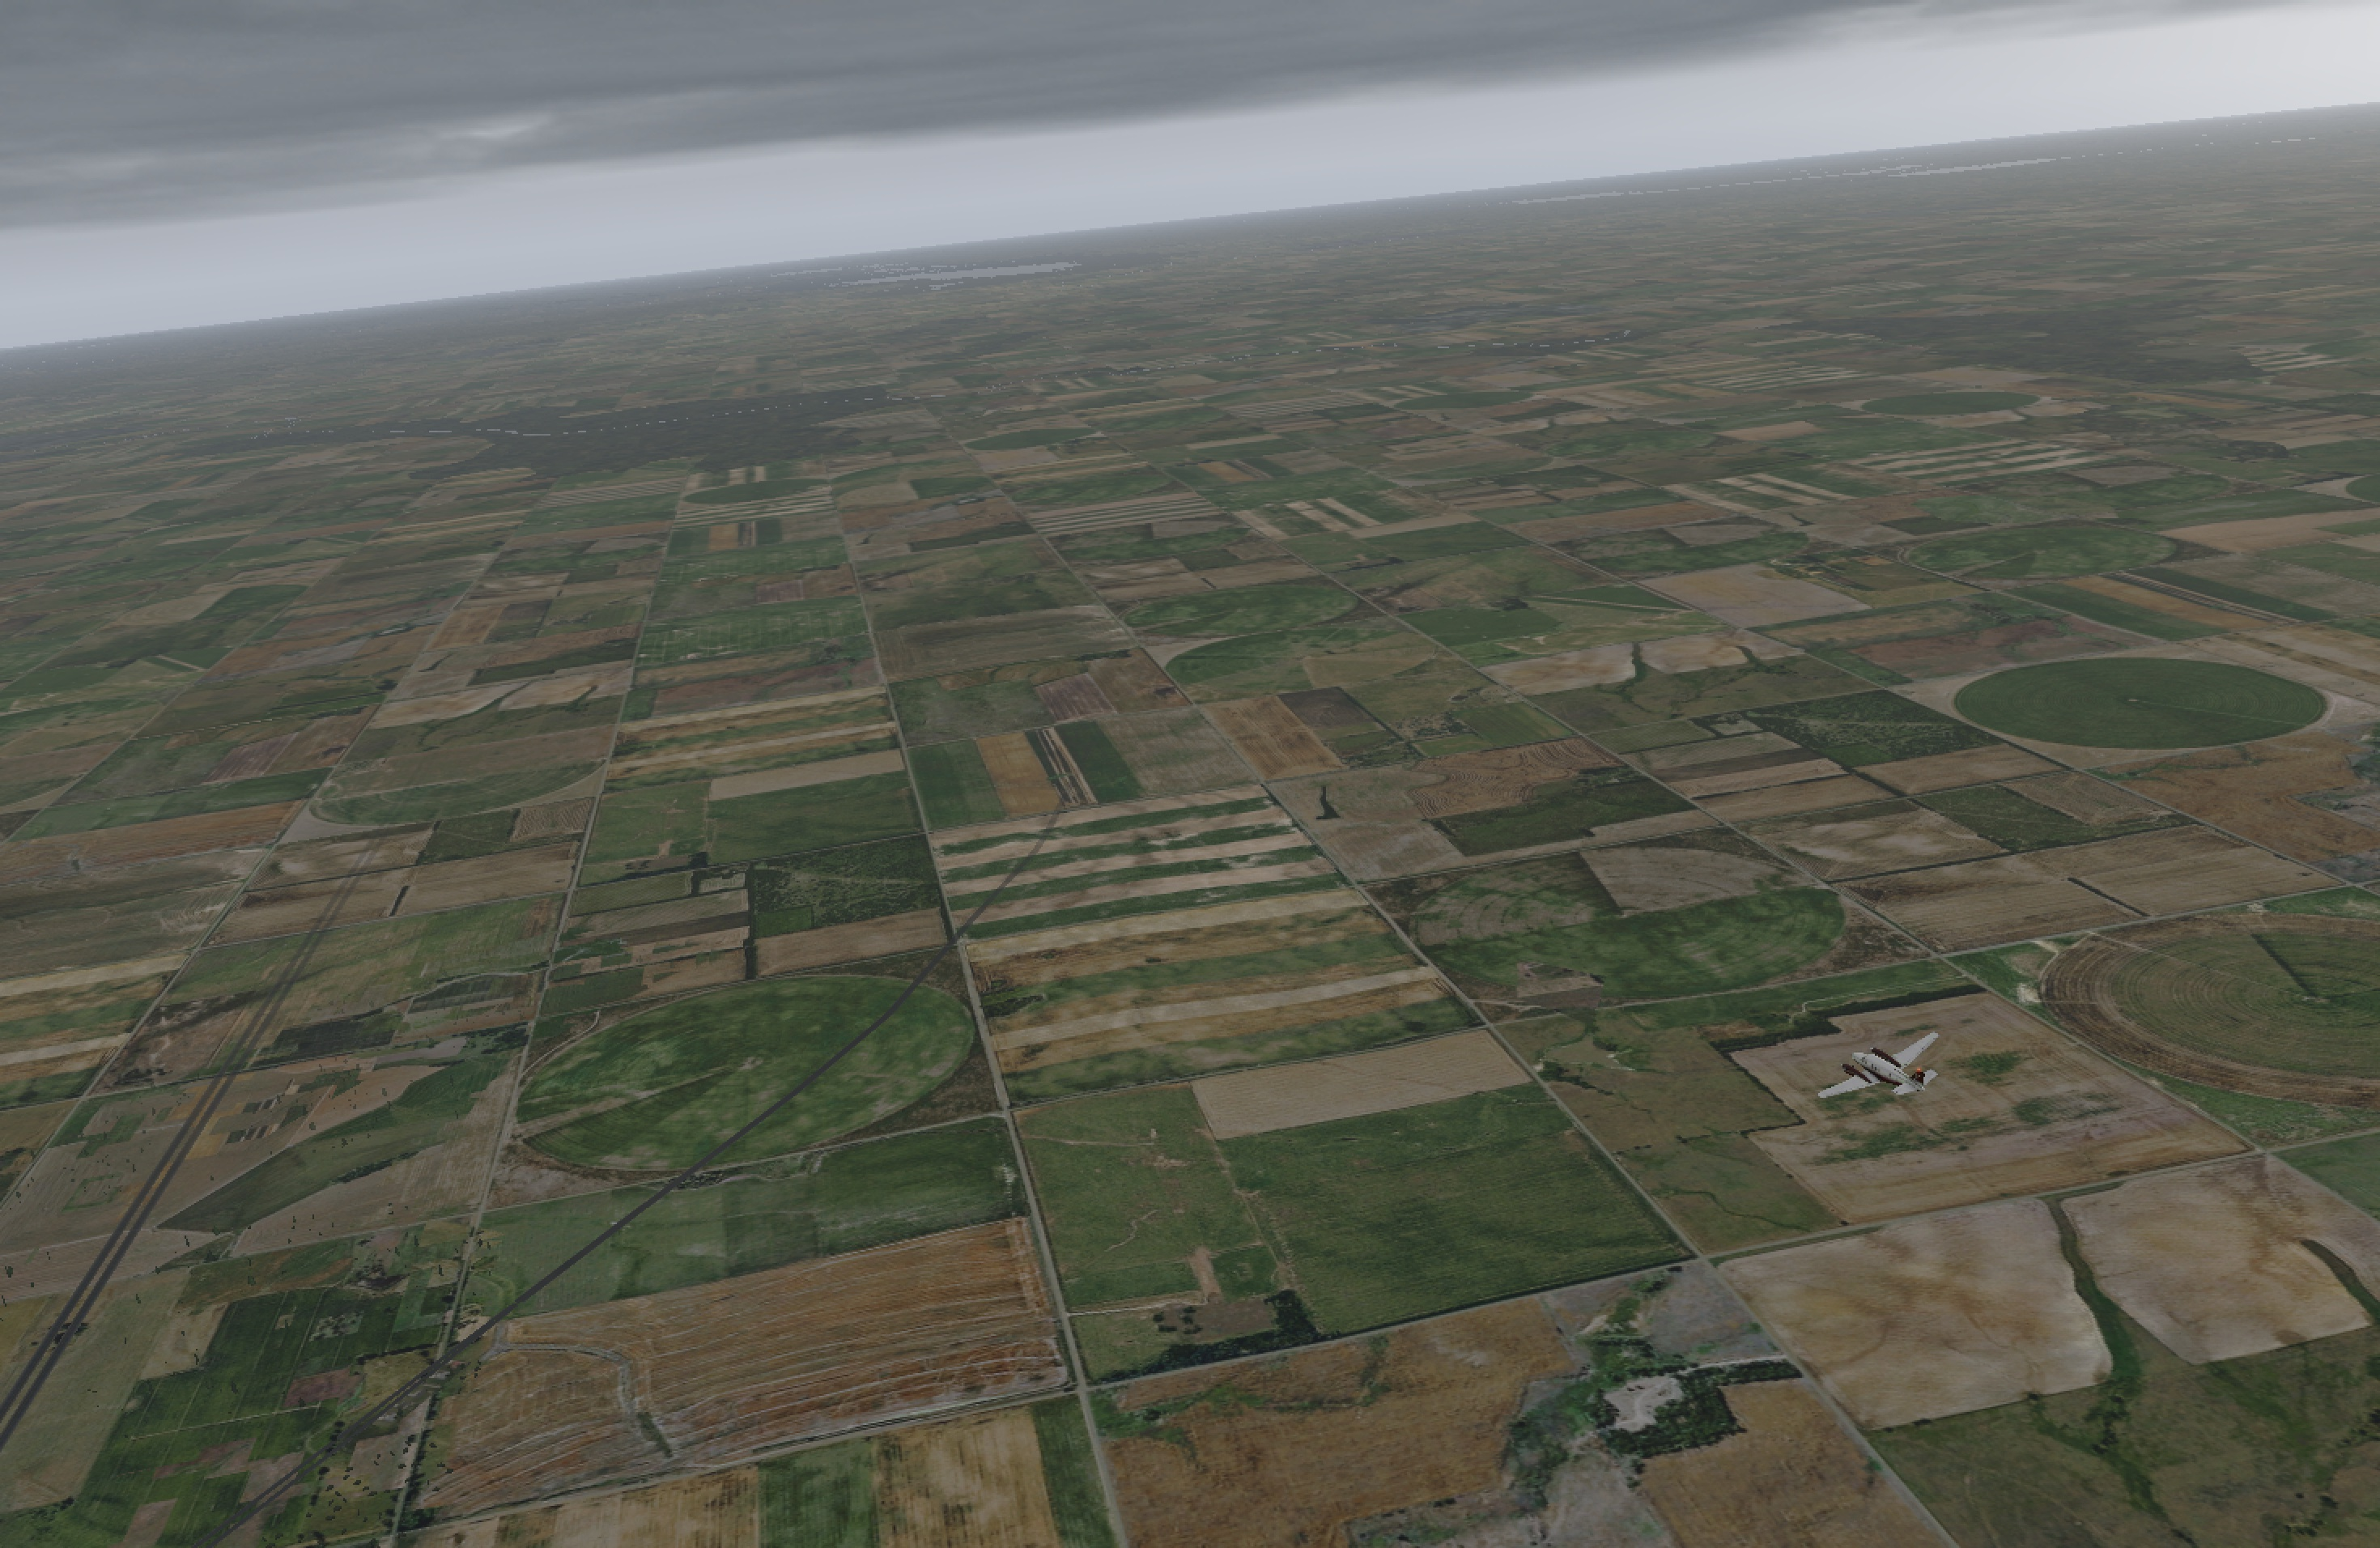aircraft: (1804, 1043, 1948, 1099)
